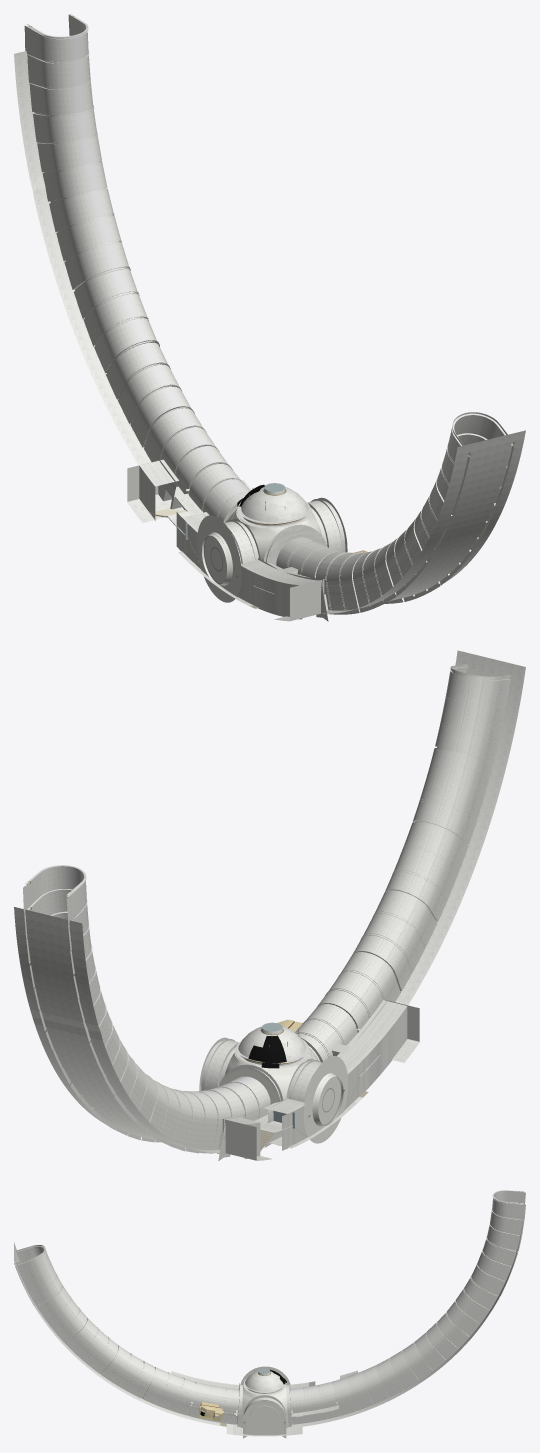
Rendered from Ring1.3.fbx.
3 renders of one model, top to bottom at view 1: azimuth 30°, elevation 25°; view 2: azimuth 150°, elevation 25°; view 3: azimuth 270°, elevation 25°, orthographic. The views are drawn at different scales.
Parts seen in each view (by area): view 1: Plane.010, Cylinder.090; view 2: Plane.010, Cylinder.090; view 3: Plane.010, Cylinder.090.
Boxes of the visible parts, bbox=[...] form: Plane.010: bbox=[24, 14, 514, 621]; Cylinder.090: bbox=[14, 51, 525, 621]; Plane.010: bbox=[23, 664, 511, 1160]; Cylinder.090: bbox=[14, 650, 525, 1153]; Plane.010: bbox=[14, 1190, 525, 1438]; Cylinder.090: bbox=[14, 1220, 522, 1425].
Size of the model in its own units: 2446 by 7569 by 15087.
